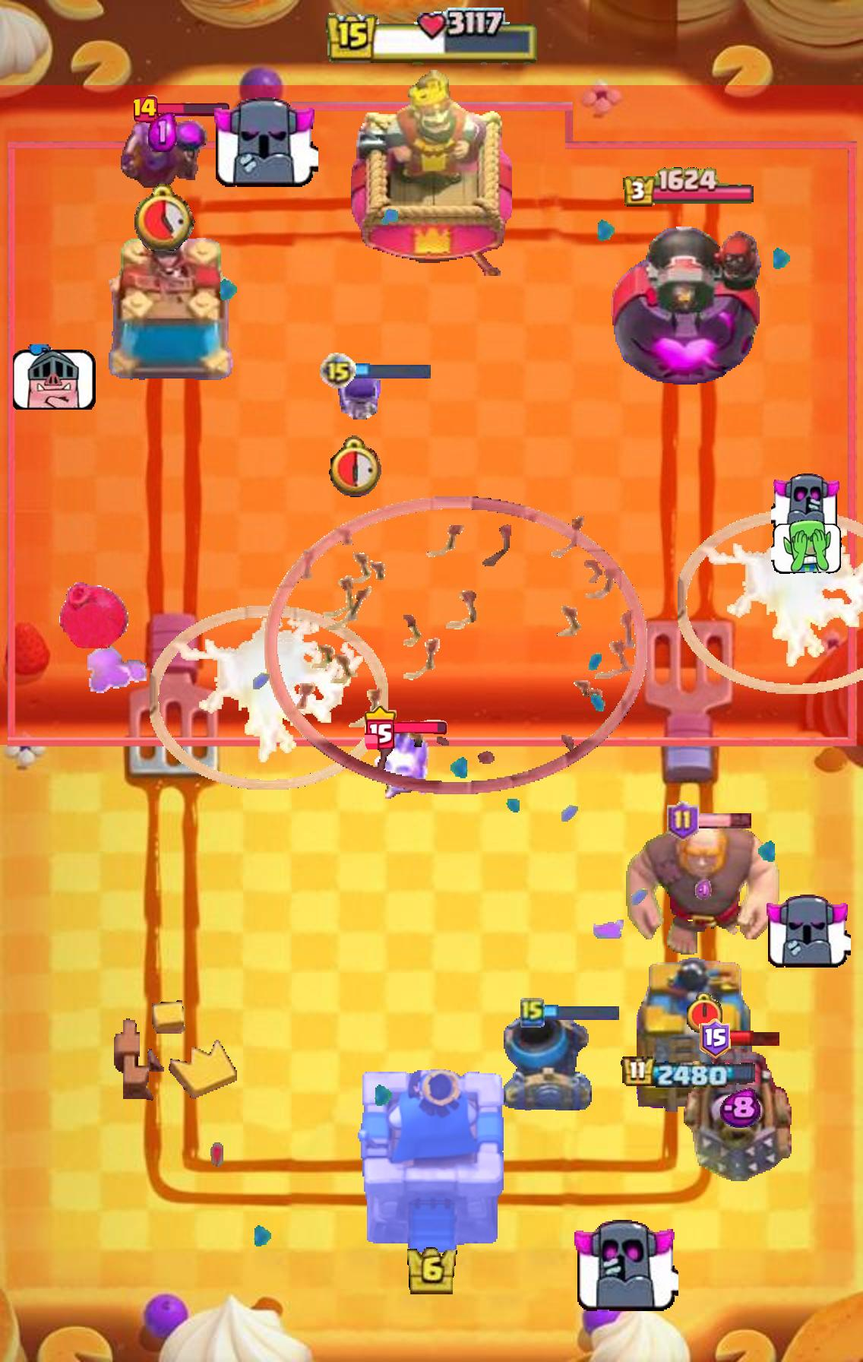elixir: (719, 1087, 761, 1129), (148, 112, 177, 152), (695, 879, 713, 901)
skeleton-evolution: (334, 367, 381, 428)
